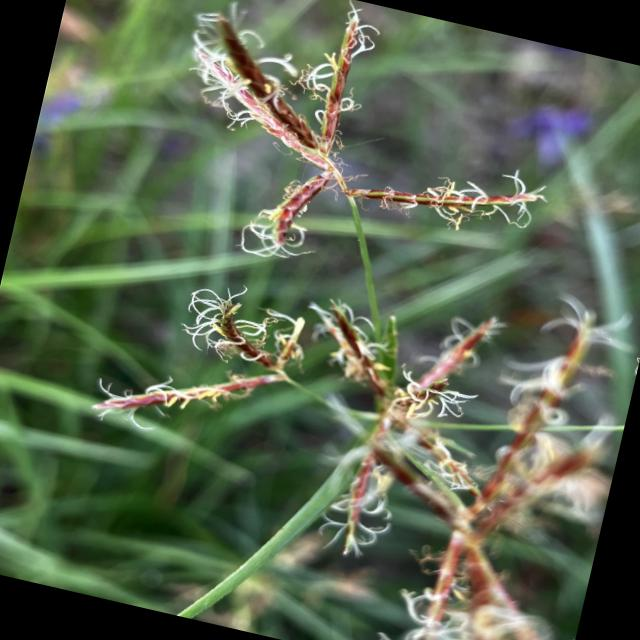cyperus: (47, 193, 640, 640), (81, 0, 575, 517)
